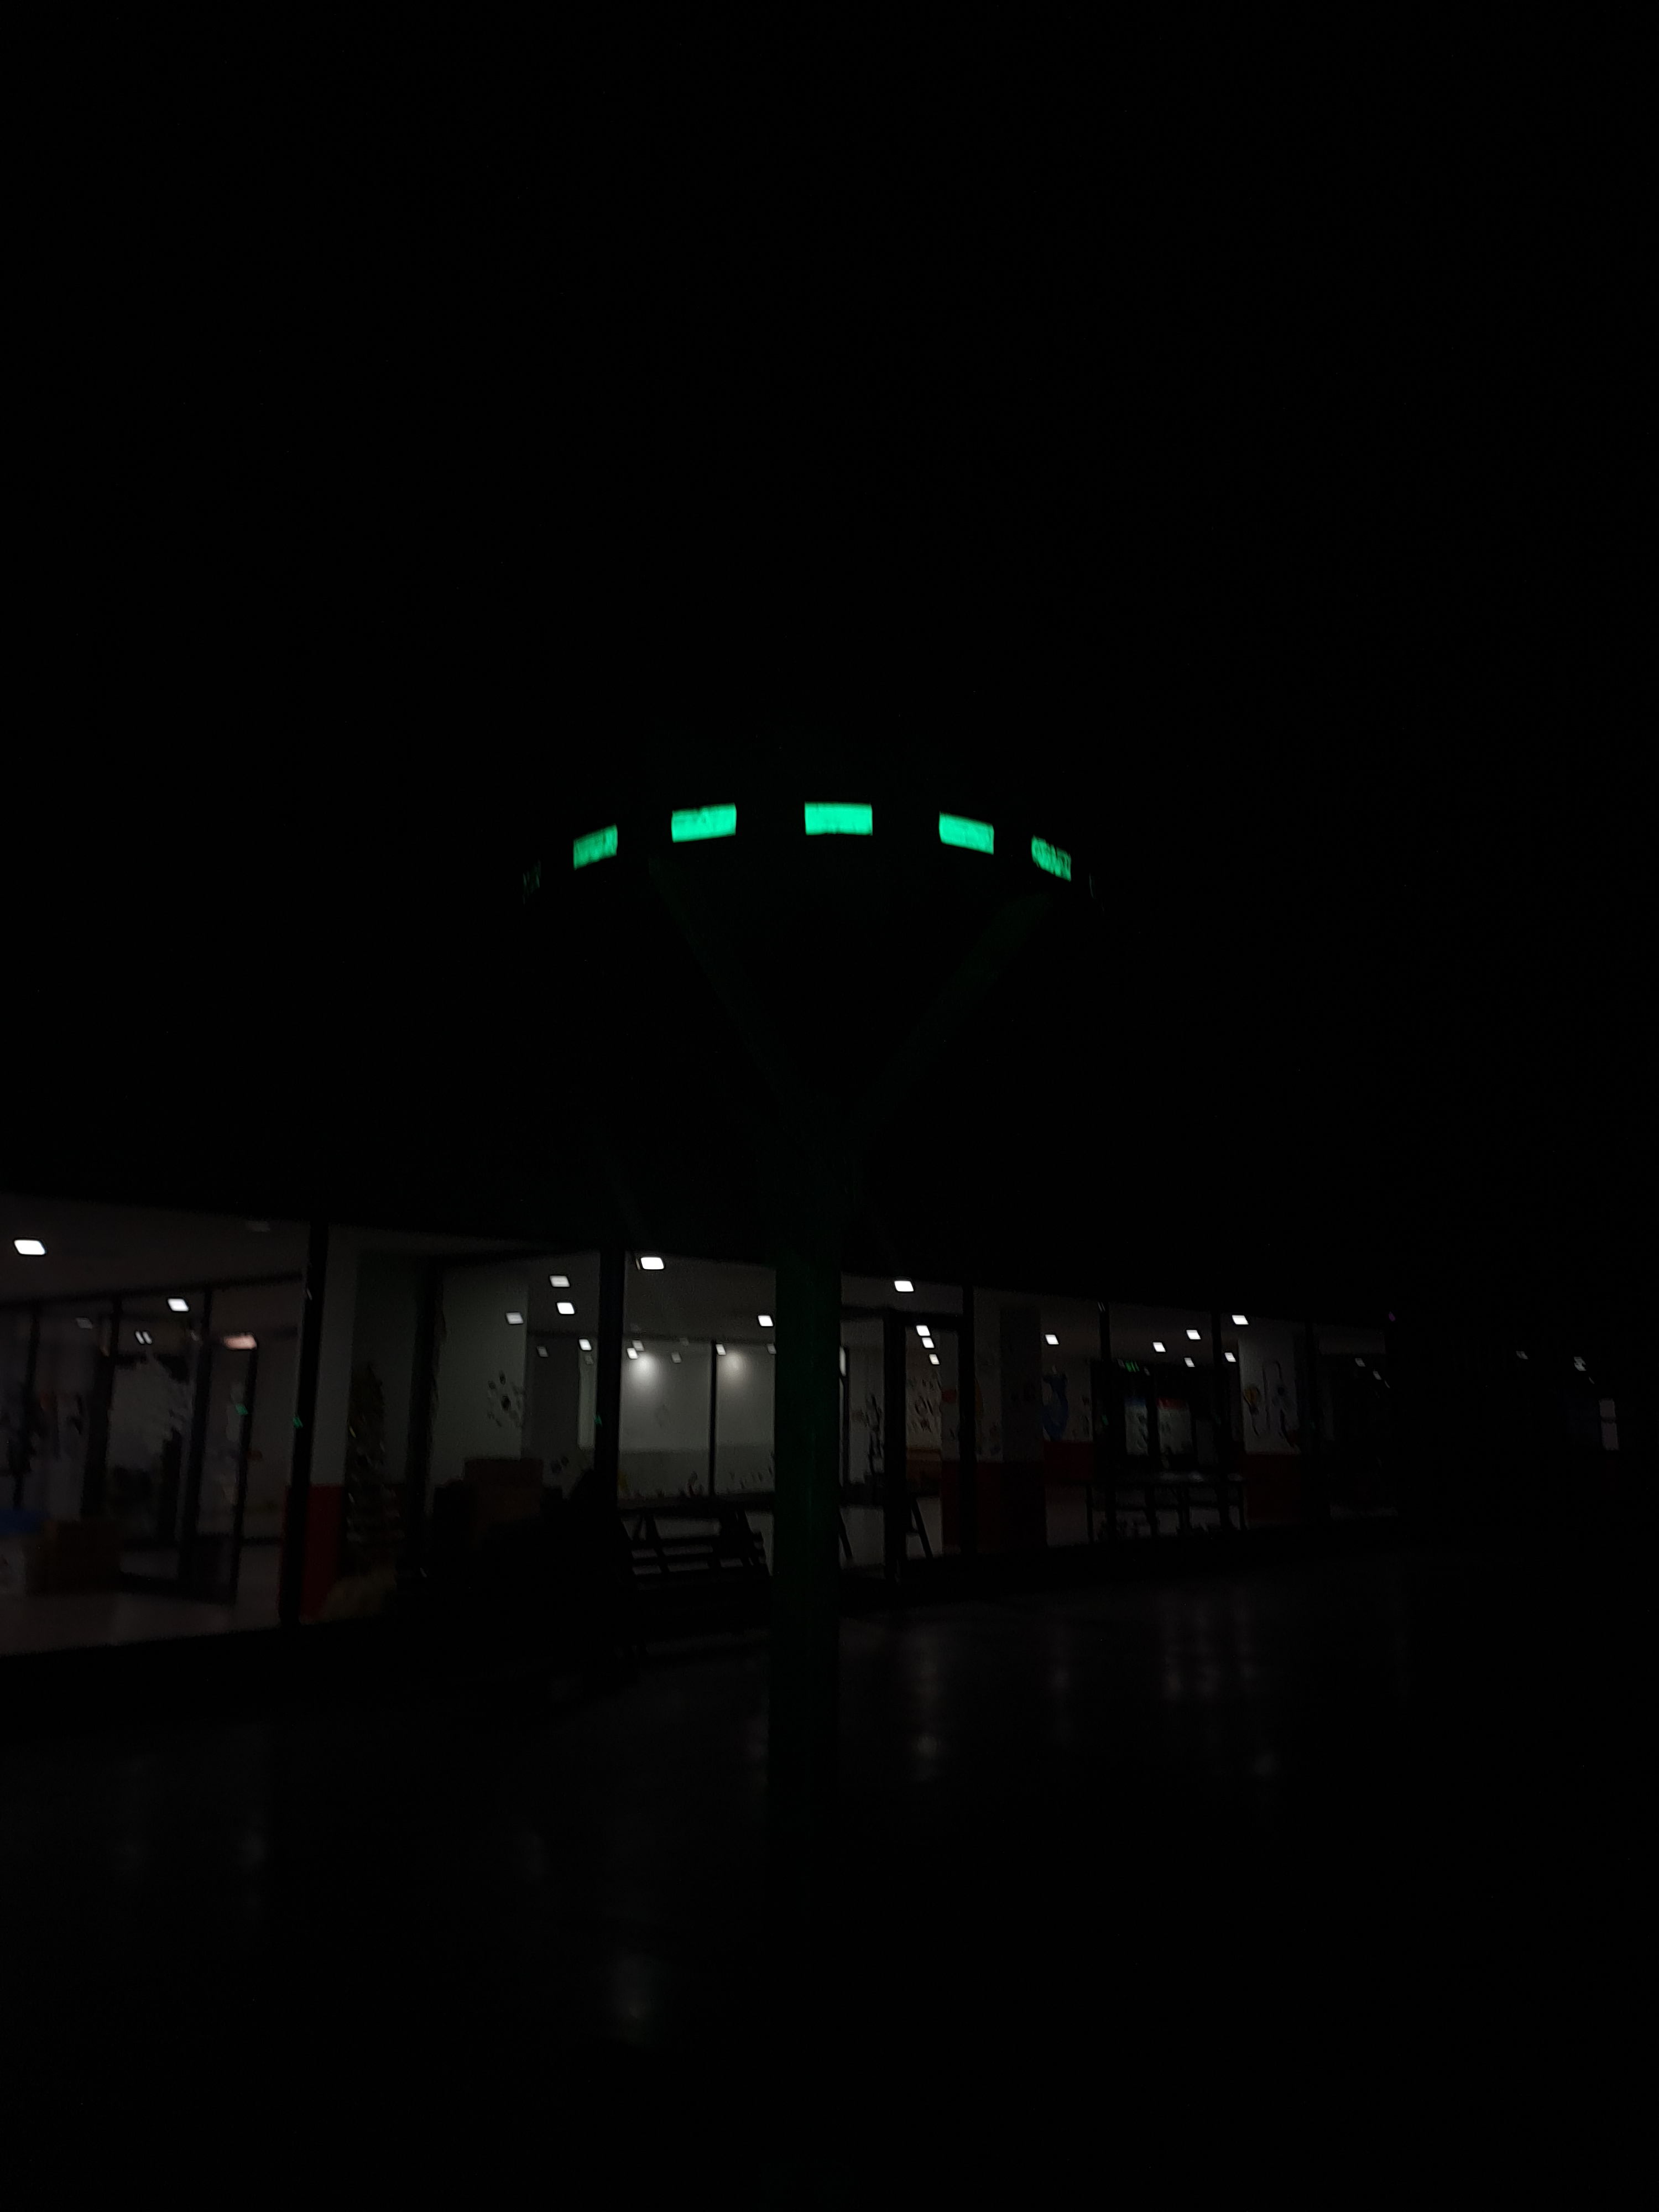hoop: (566, 808, 1079, 887)
